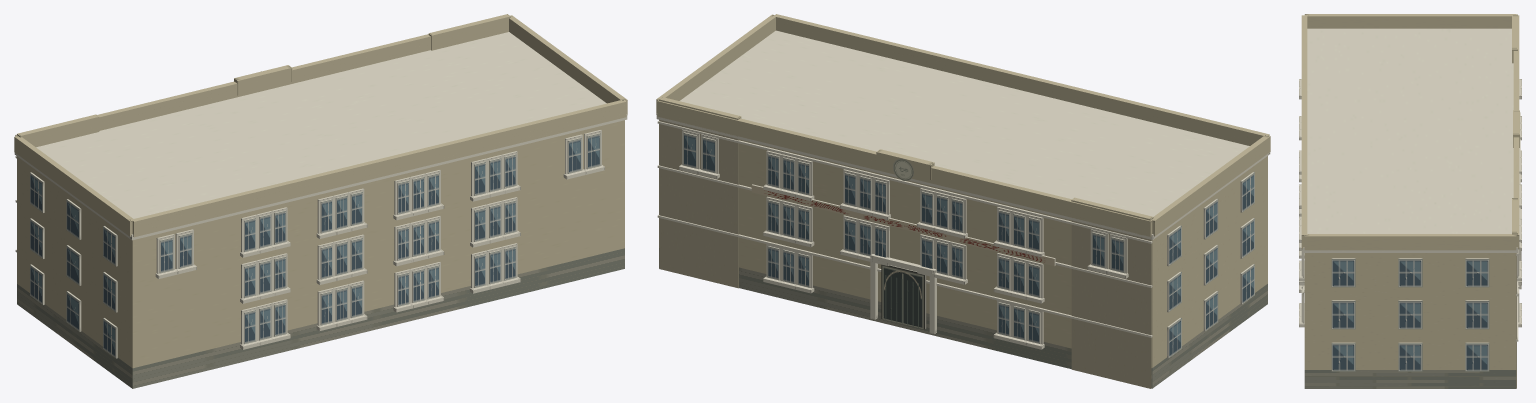
The model's file is SM_QD_School_HistoricSouth.fbx.
3 views of the same model, side by side, from view 1: azimuth 30°, elevation 25°; view 2: azimuth 150°, elevation 25°; view 3: azimuth 270°, elevation 25° (orthographic). The views are drawn at different scales.
Parts seen in each view (by area): view 1: SM_QD_School_HistoricSouth; view 2: SM_QD_School_HistoricSouth; view 3: SM_QD_School_HistoricSouth.
Boxes of the visible parts, <box> form: SM_QD_School_HistoricSouth: <box>14,14,627,388</box>; SM_QD_School_HistoricSouth: <box>656,14,1270,388</box>; SM_QD_School_HistoricSouth: <box>1299,14,1521,388</box>.
Bounding box in the file's own units: 14.15 × 6 × 4.65.
1 material, 1 textured.
